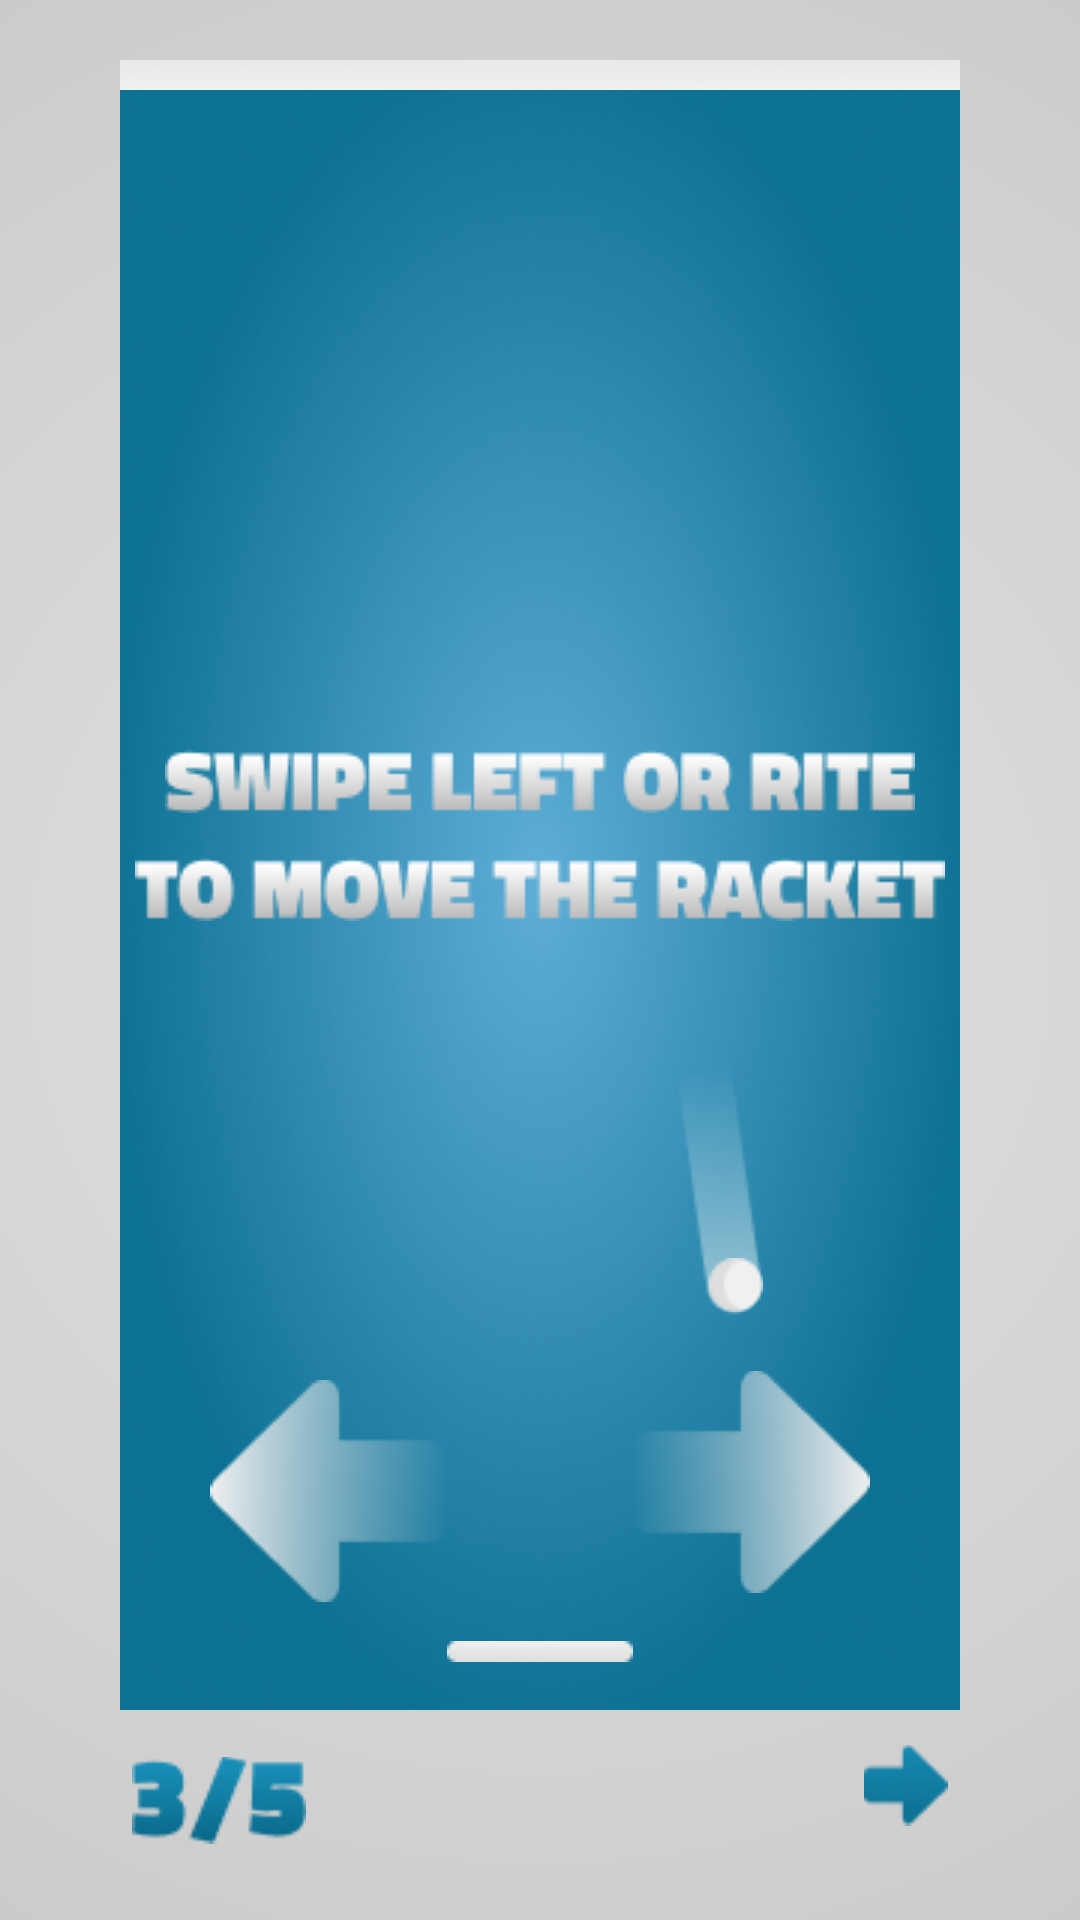

Locate icon controls on the screen. Image size 1080x1920, boxes as (x1, y1, x2, y2).
right arrow: (864, 1745, 948, 1826)
tutorial left arrow: (210, 1371, 450, 1602)
tutorial right arrow: (630, 1371, 870, 1593)
